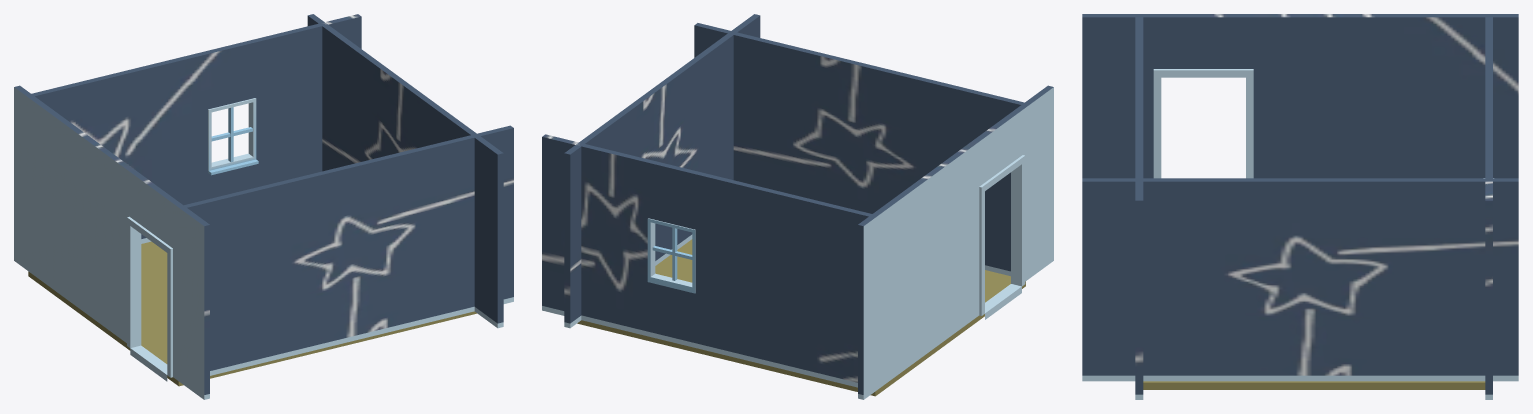
Rendered from Quarto.fbx.
3 renders of one model, left to right at view 1: azimuth 30°, elevation 25°; view 2: azimuth 150°, elevation 25°; view 3: azimuth 270°, elevation 25°, orthographic. The views are drawn at different scales.
Parts seen in each view (by area): view 1: parede.002, ParedePorta, ParedeJanela, parede.001, pisoQuarto; view 2: ParedeJanela, parede.002, ParedePorta, parede.001, pisoQuarto; view 3: parede.001, ParedePorta, parede.002, pisoQuarto, ParedeJanela.
Part boxes in pixels (box(x1,y1,x2,y2)): parede.002: box(184, 125, 513, 375); ParedePorta: box(14, 85, 209, 399); ParedeJanela: box(31, 14, 361, 243); parede.001: box(307, 14, 503, 328); pisoQuarto: box(28, 241, 476, 386); ParedeJanela: box(542, 134, 874, 387); parede.002: box(694, 23, 1024, 276); ParedePorta: box(858, 85, 1053, 399); parede.001: box(564, 14, 760, 328); pisoQuarto: box(577, 239, 1025, 396); parede.001: box(1082, 178, 1518, 381); ParedePorta: box(1082, 14, 1518, 178); parede.002: box(1135, 17, 1143, 399); pisoQuarto: box(1143, 381, 1485, 389); ParedeJanela: box(1483, 17, 1493, 399).
Bounding box in the file's own units: 566 × 290 × 555.
Materials: 3 (1 with a texture image).
